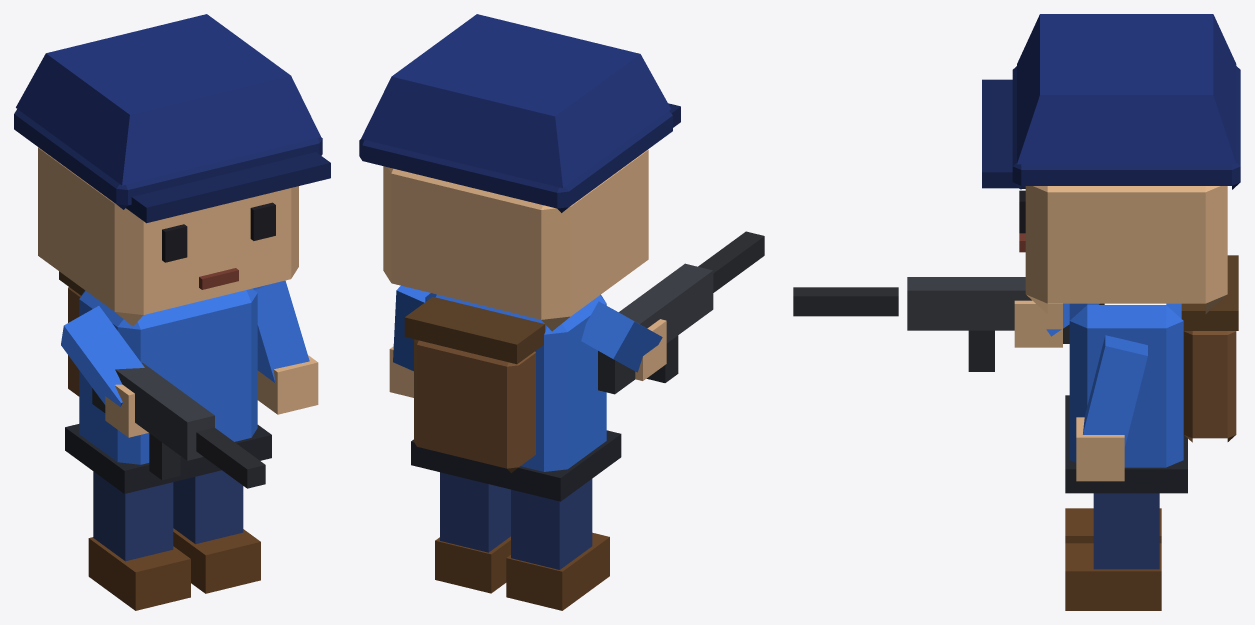
Rendered from rifleman.glb.
3 renders of one model, left to right at view 1: azimuth 30°, elevation 25°; view 2: azimuth 150°, elevation 25°; view 3: azimuth 270°, elevation 25°, orthographic. The views are drawn at different scales.
Parts seen in each view (by area): view 1: rifleman_mesh; view 2: rifleman_mesh; view 3: rifleman_mesh.
Part boxes in pixels (x1,y1,x2,y2): rifleman_mesh: [14, 14, 330, 610]; rifleman_mesh: [359, 14, 764, 610]; rifleman_mesh: [793, 14, 1240, 610].
Bounding box in the file's own units: 0.6303 × 1.3 × 1.
Materials: 1 (1 with a texture image).
